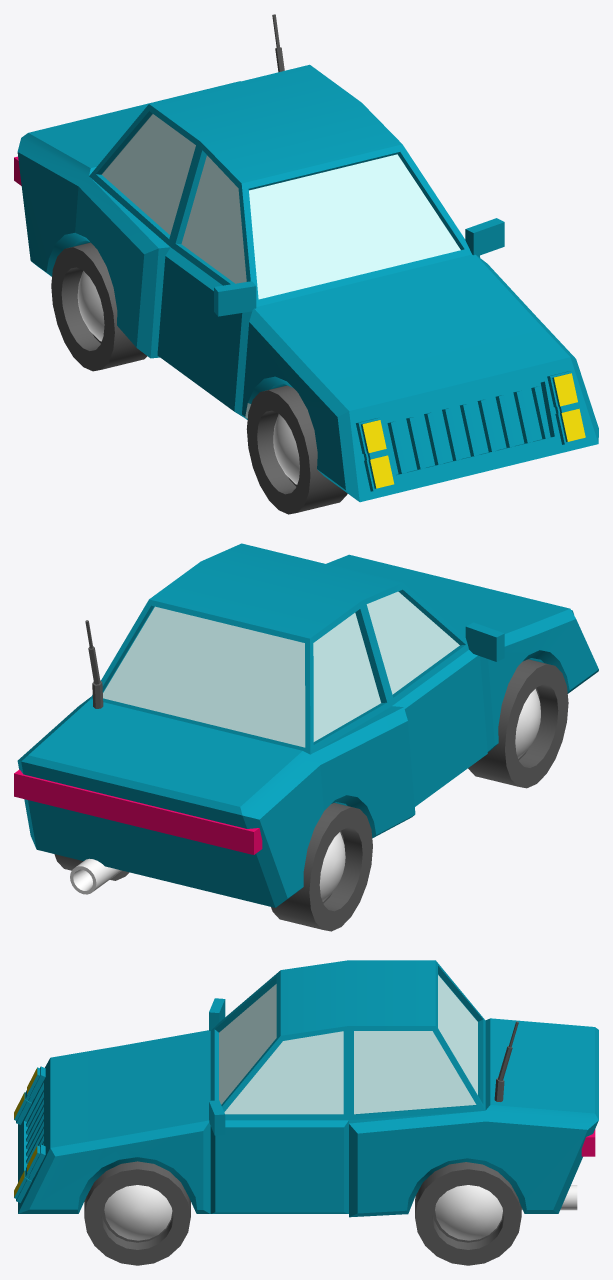
File: Ferrari458Speciale.fbx
The picture shows the model from 3 angles, top to bottom: view 1: azimuth 30°, elevation 25°; view 2: azimuth 150°, elevation 25°; view 3: azimuth 270°, elevation 25°; orthographic projection. The views are drawn at different scales.
Parts seen in each view (by area): view 1: Ferrari458Speciale; view 2: Ferrari458Speciale; view 3: Ferrari458Speciale.
Part boxes in pixels (x1,y1,x2,y2): Ferrari458Speciale: (14,14,598,514); Ferrari458Speciale: (14,543,598,931); Ferrari458Speciale: (14,960,598,1265).
Size of the model in its own units: 2.29 by 2.11 by 4.85.
